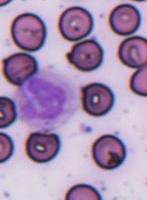N: (16, 71, 78, 129)
